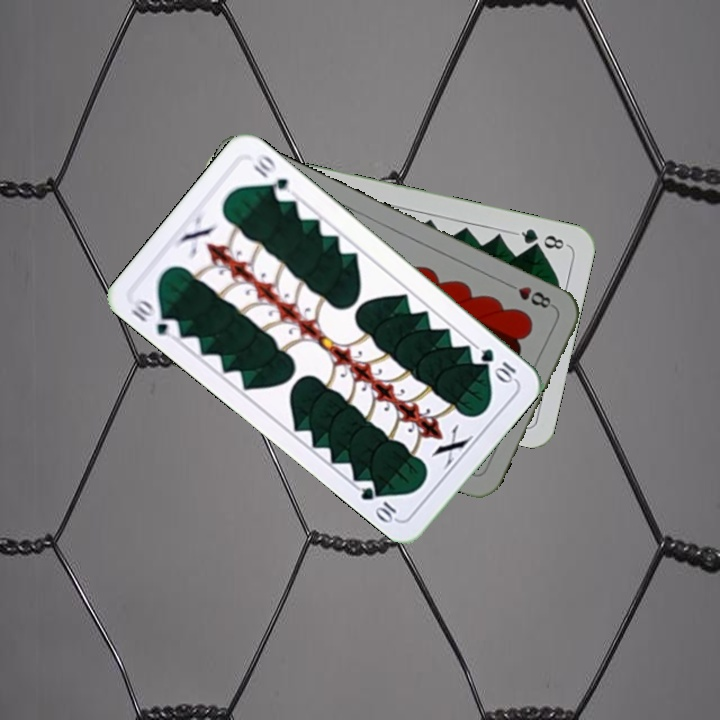G10: (126, 295, 183, 342), (476, 344, 519, 385)
G8: (511, 224, 570, 252)
H8: (501, 278, 557, 311)
